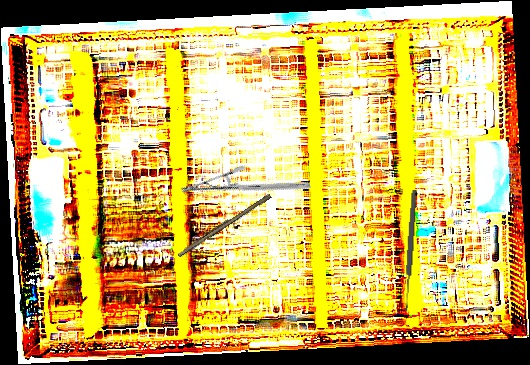Needle Holder: (179, 129, 312, 246)
Scalpel Handle: (176, 190, 272, 260)
Surgical Spoon: (402, 189, 418, 312)
